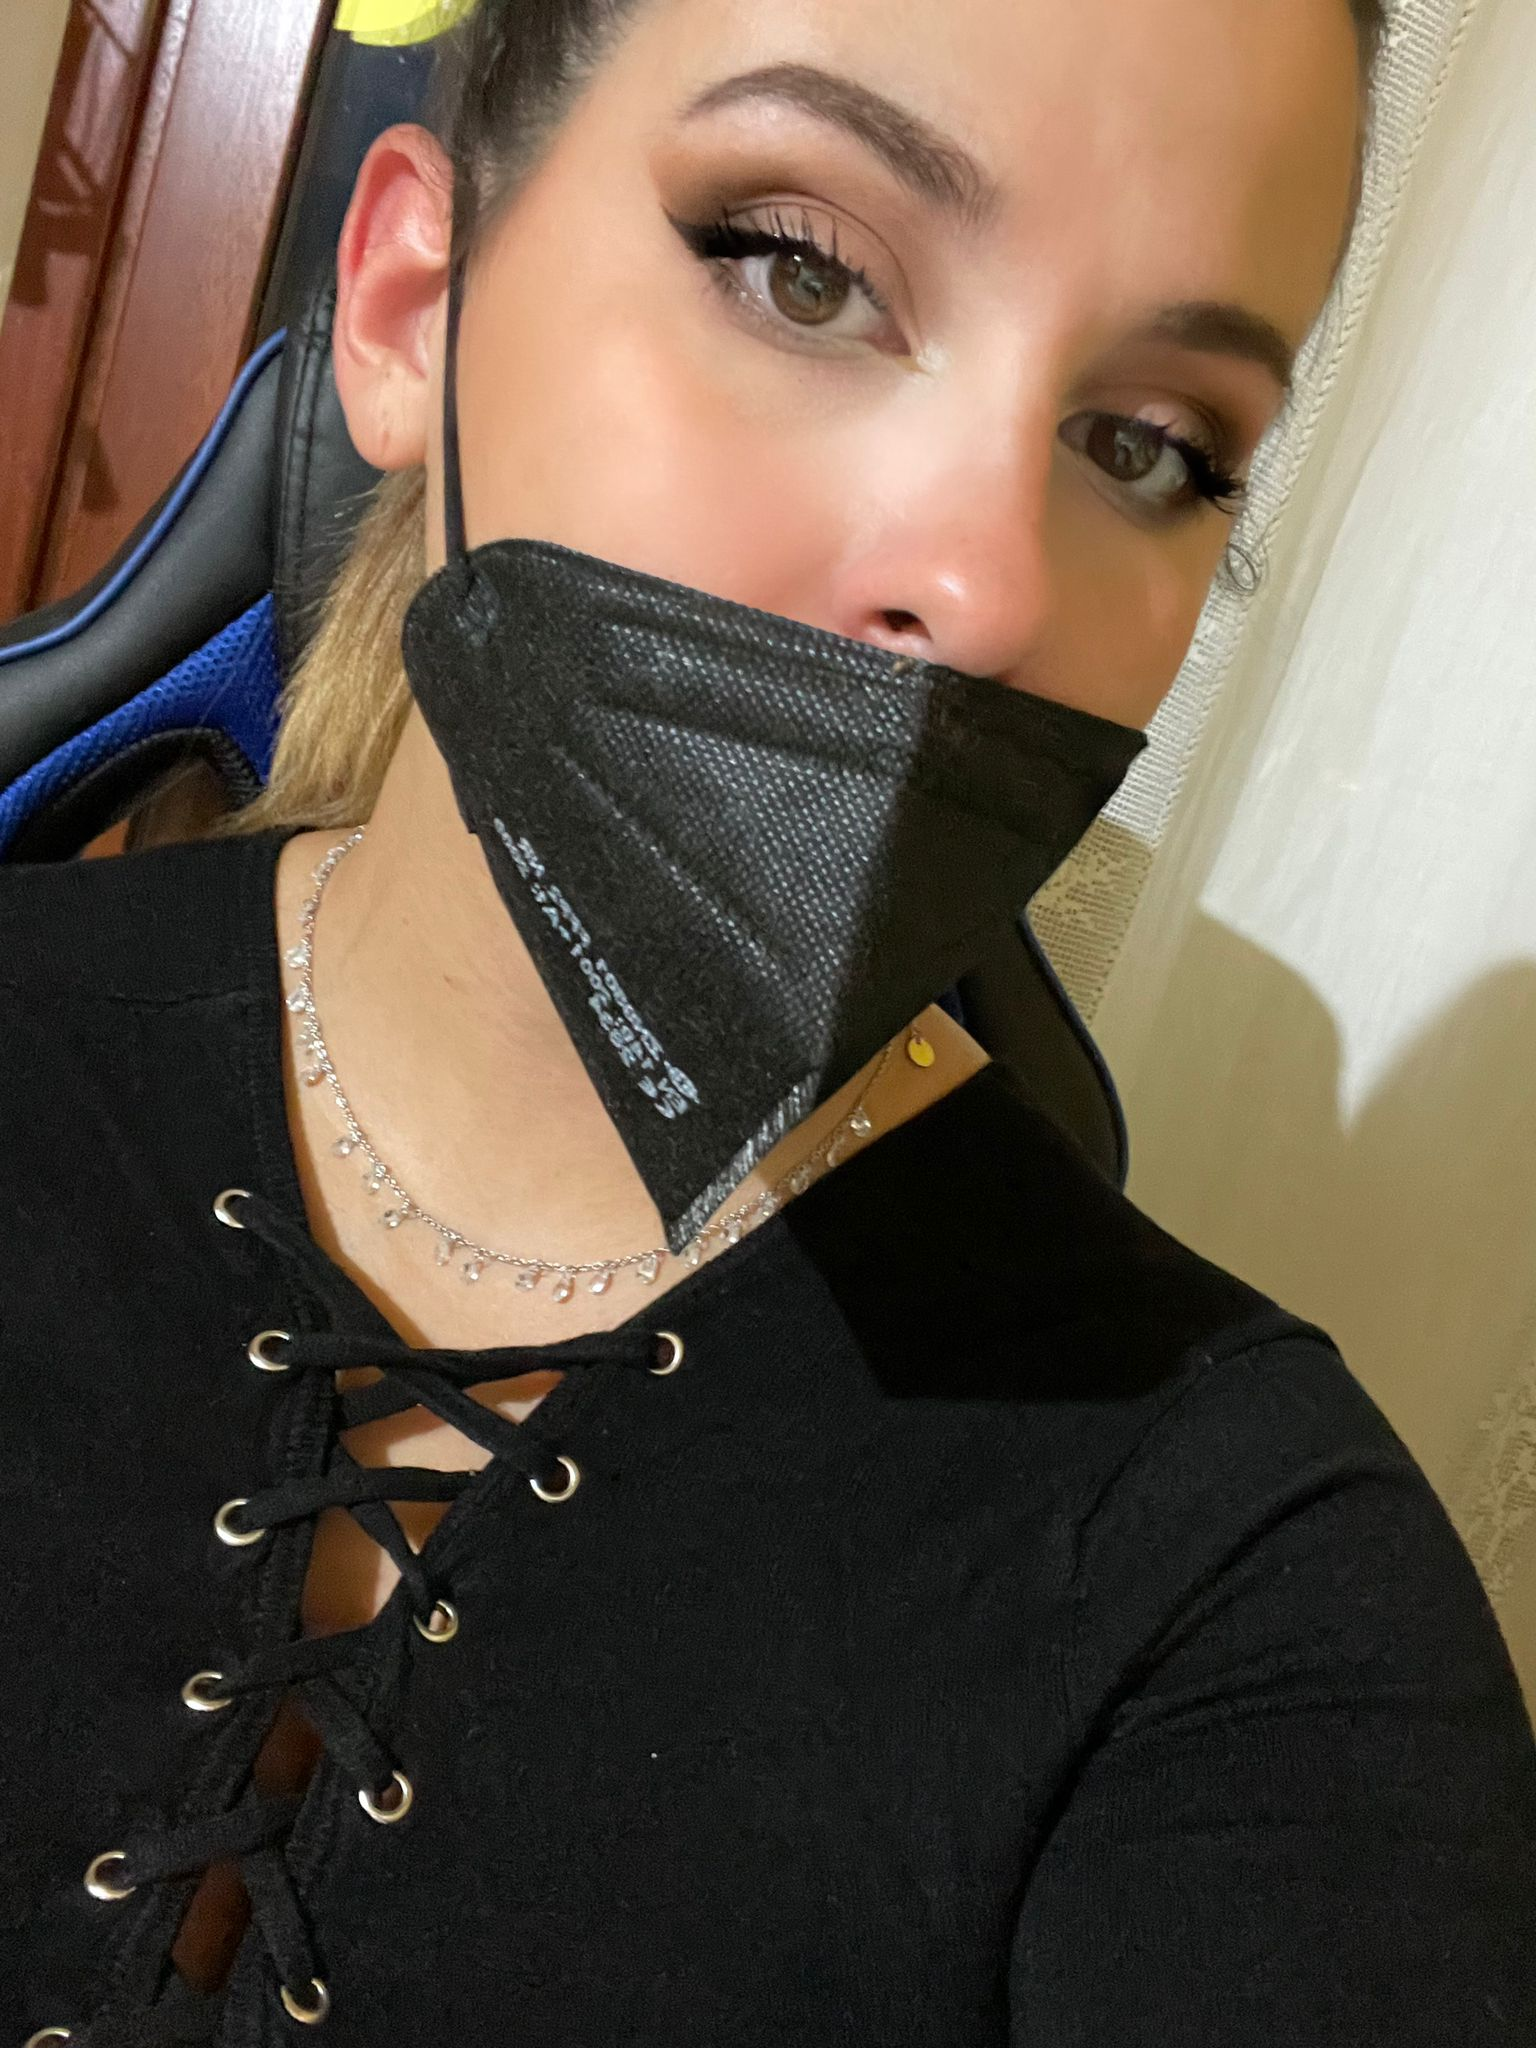with_incorrect_mask: (335, 1, 1397, 1130)
